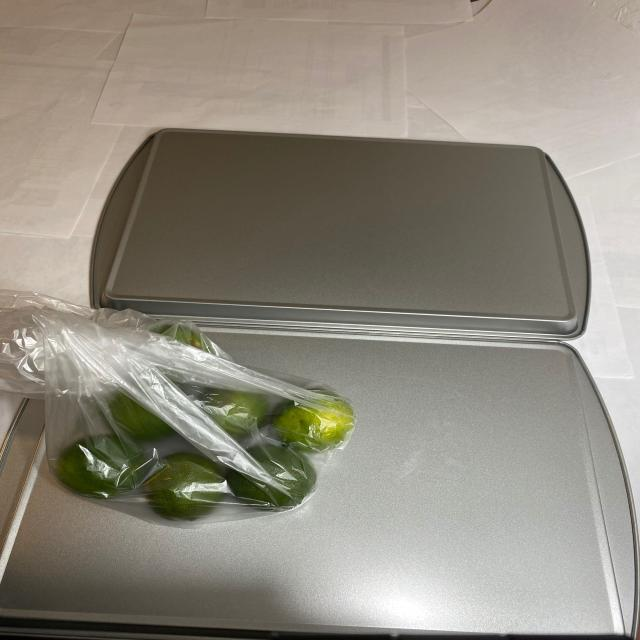lemon: (45, 327, 357, 508)
